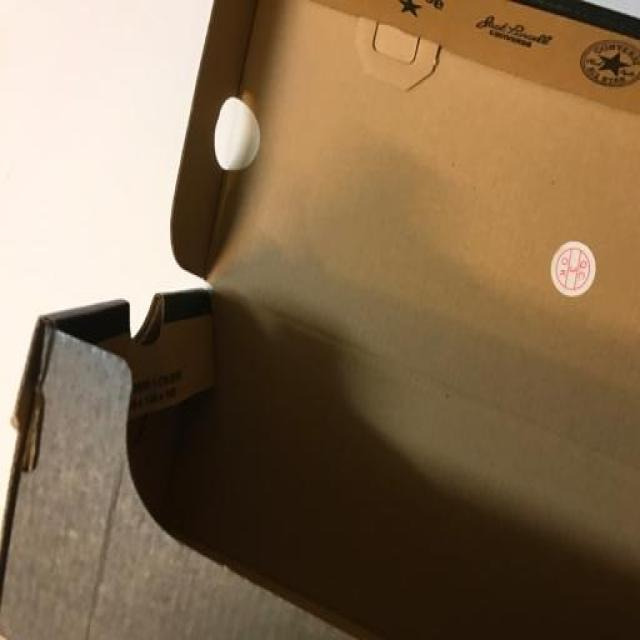Cardboard: (0, 0, 638, 640)
